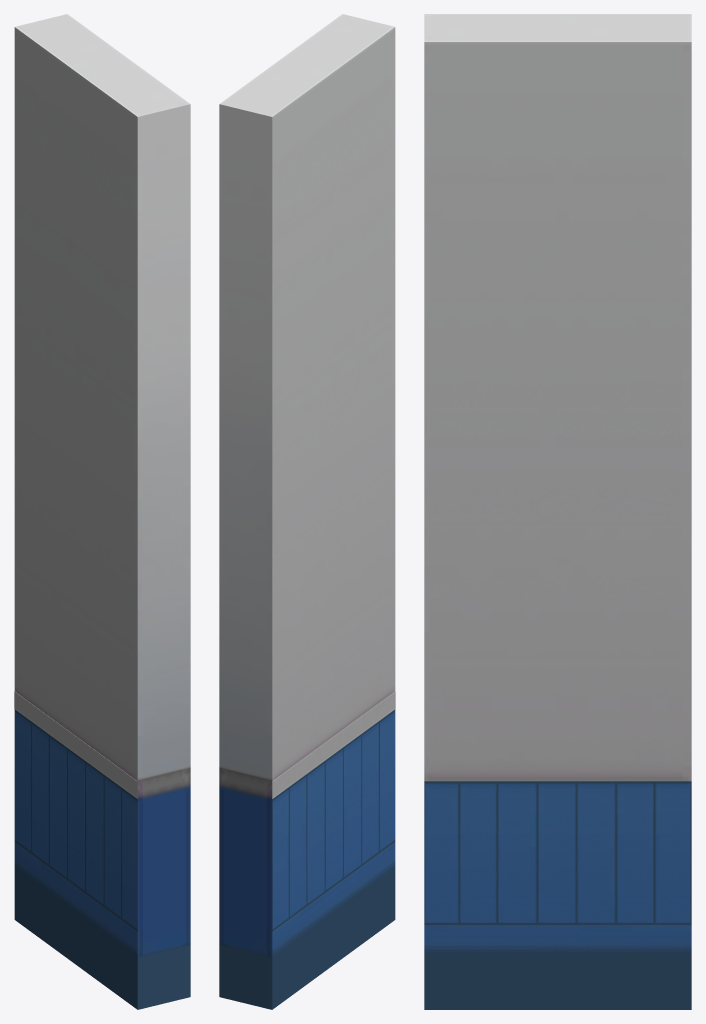
File: my_defaultroom_wall_right.glb
The picture shows the model from 3 angles, left to right: view 1: azimuth 30°, elevation 25°; view 2: azimuth 150°, elevation 25°; view 3: azimuth 270°, elevation 25°; orthographic projection. The views are drawn at different scales.
Visible parts, largest first — view 1: my_defaultroom_wall_right; view 2: my_defaultroom_wall_right; view 3: my_defaultroom_wall_right.
Part boxes in pixels (<box>): my_defaultroom_wall_right: <box>14,14,190,1009</box>; my_defaultroom_wall_right: <box>219,14,395,1009</box>; my_defaultroom_wall_right: <box>424,14,691,1009</box>.
Bounding box in the file's own units: 0.00298 × 0.048 × 0.012.
1 material, 1 textured.
